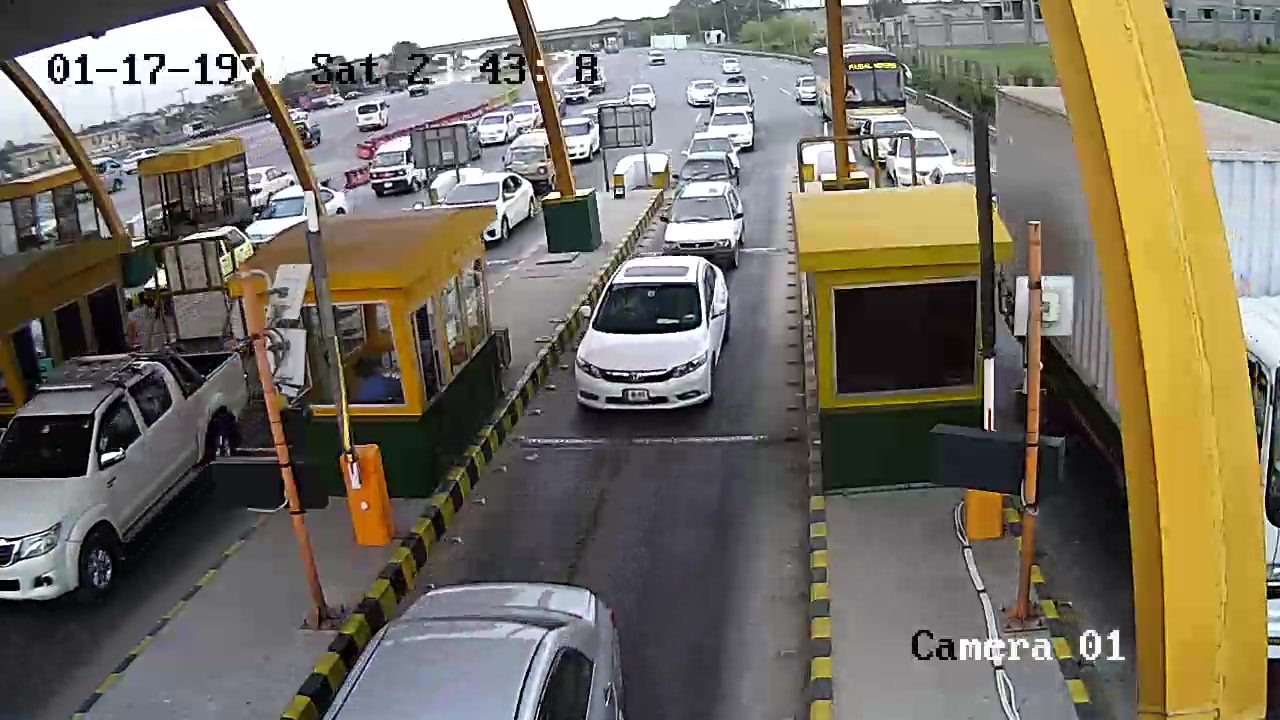F1: (564, 248, 759, 435)
